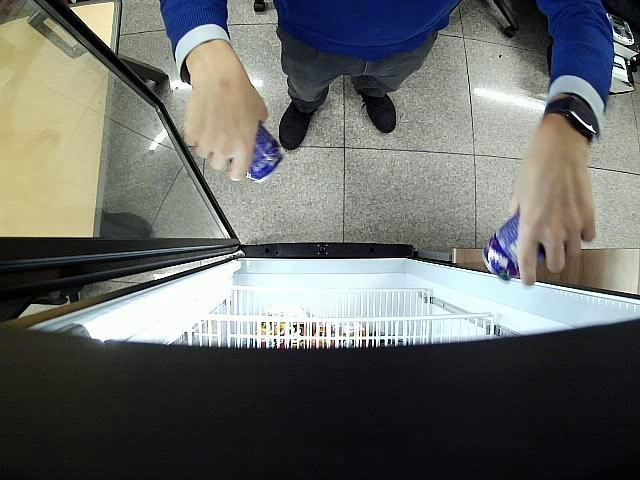14_welchsGrape: (482, 210, 544, 282), (247, 122, 283, 183)
